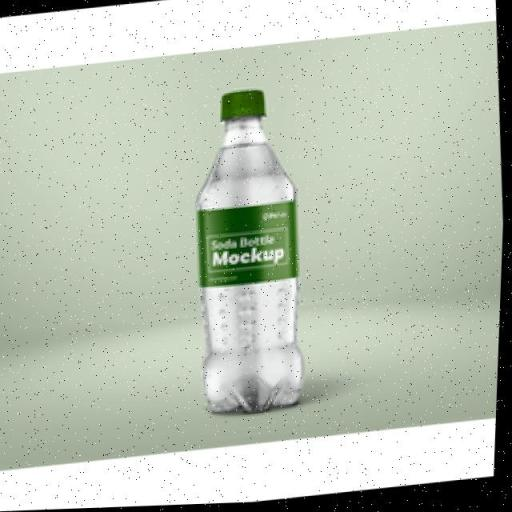plastic: (181, 83, 317, 420)
